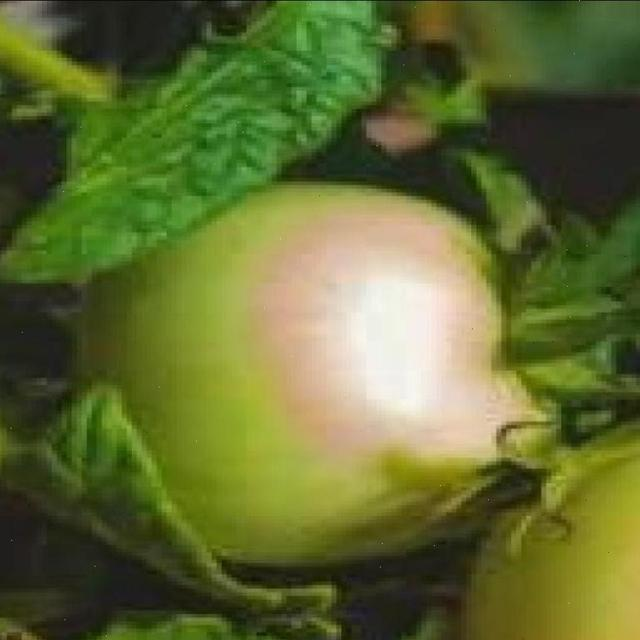Sunscald Fruit: (166, 138, 360, 312)
